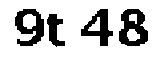4: (76, 5, 114, 50)
8: (116, 4, 151, 48)
9: (10, 3, 46, 51)
t: (45, 9, 66, 49)
